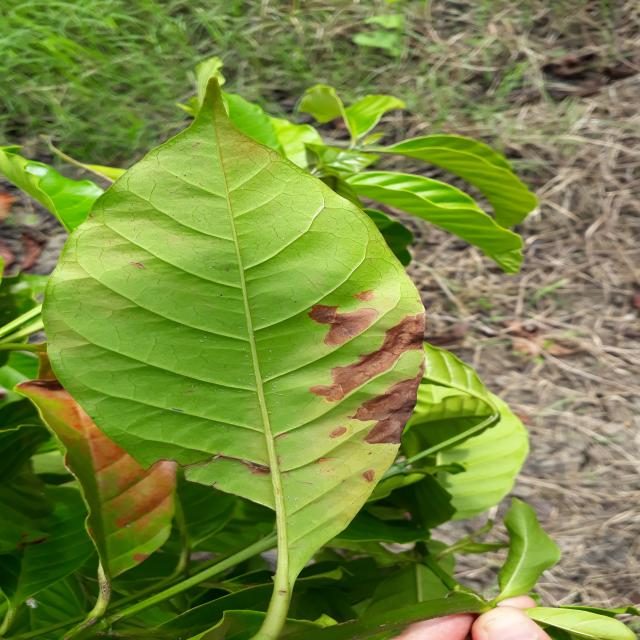Plaga-AranaRoja: (42, 60, 425, 640)
